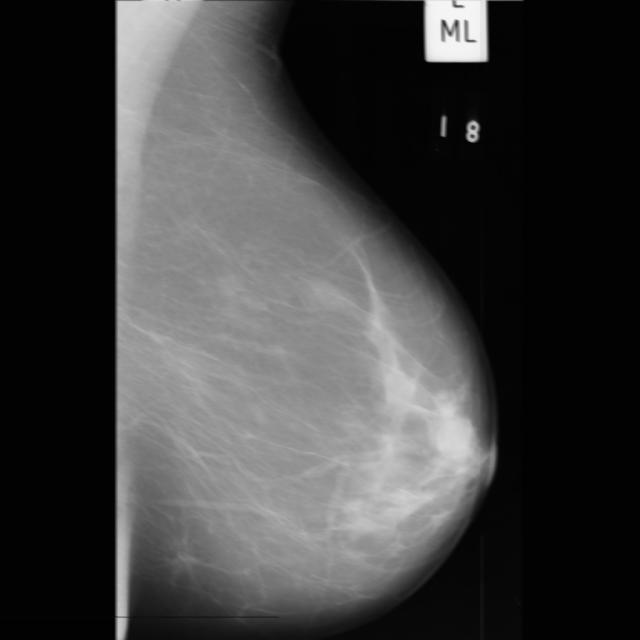SPIC: (171, 543, 203, 576)
